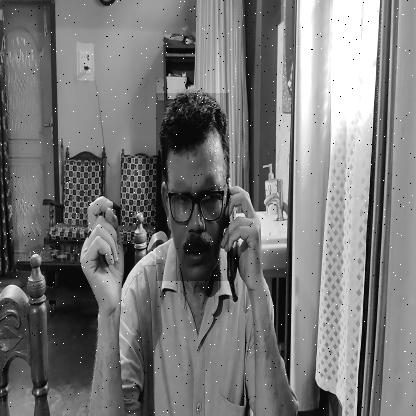Normal: (156, 93, 229, 281)
